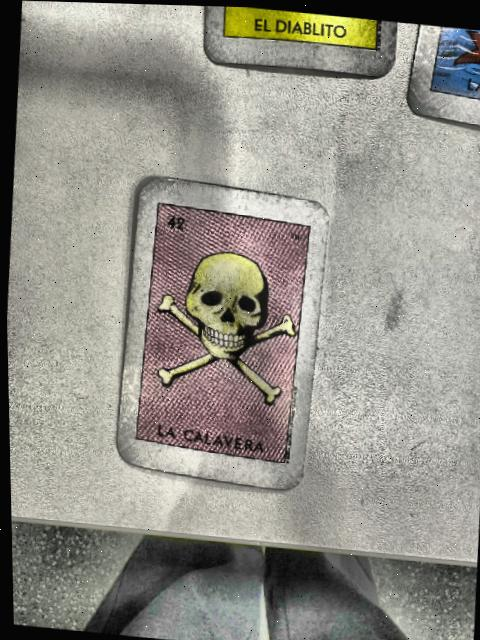La Calavera: (135, 199, 307, 461)
